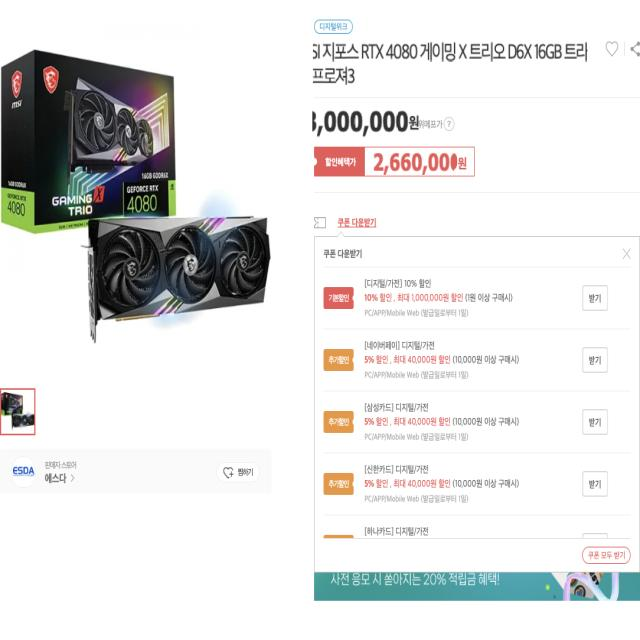product_discount_price: (368, 149, 454, 175)
product_name: (313, 38, 587, 85)
product_original_price: (312, 112, 419, 140)
